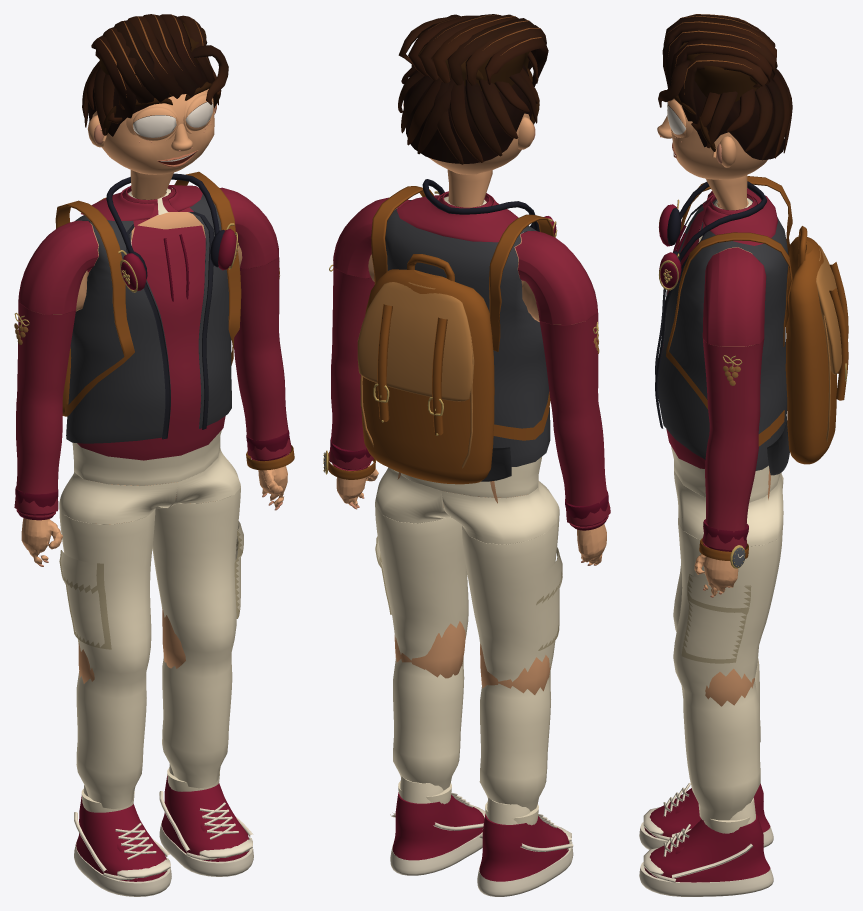
File: axon-sippy-mobile.glb
3 renders of one model, left to right at view 1: azimuth 30°, elevation 25°; view 2: azimuth 150°, elevation 25°; view 3: azimuth 270°, elevation 25°, orthographic.
Visible parts, largest first — view 1: clothes / trousers, clothes / hoodie, clothes / quilt, skin / hair, skin / skin, clothes / shoe, clothes / sole, clothes / leather, clothes / binding, clothes / cuff, clothes / pad, clothes / cargoSeam (+2 smaller); view 2: clothes / trousers, clothes / hoodie, clothes / leather, skin / hair (×2), clothes / quilt, clothes / saddleEdge, clothes / shoe, skin / skin, clothes / sole, clothes / shirt, clothes / cuff, clothes / pad; view 3: clothes / trousers, clothes / hoodie, skin / hair (×2), clothes / quilt, clothes / leather, clothes / shoe, skin / skin, clothes / sole, clothes / saddleEdge, clothes / pad, clothes / cargoSeam, clothes / cuff (+3 smaller).
Boxes of the visible parts, x1,y1,x2,y2 form: clothes / trousers: [59, 430, 243, 812]; clothes / hoodie: [14, 185, 291, 517]; clothes / quilt: [66, 192, 231, 443]; skin / hair: [82, 14, 228, 136]; skin / skin: [21, 89, 287, 683]; clothes / shoe: [76, 229, 249, 881]; clothes / sole: [74, 791, 253, 896]; clothes / leather: [55, 171, 294, 470]; clothes / binding: [126, 211, 214, 439]; clothes / cuff: [15, 234, 289, 520]; clothes / pad: [106, 173, 224, 278]; clothes / cargoSeam: [59, 530, 243, 649]; clothes / trousers: [375, 456, 562, 825]; clothes / hoodie: [329, 191, 610, 528]; clothes / leather: [328, 186, 554, 484]; skin / hair (×2): [398, 14, 548, 164]; clothes / quilt: [385, 200, 550, 481]; clothes / saddleEdge: [357, 282, 599, 468]; clothes / shoe: [392, 197, 569, 881]; skin / skin: [336, 102, 606, 694]; clothes / sole: [390, 792, 573, 896]; clothes / shirt: [323, 196, 530, 824]; clothes / cuff: [330, 224, 608, 530]; clothes / pad: [422, 179, 539, 231]; clothes / trousers: [671, 446, 783, 833]; clothes / hoodie: [662, 188, 777, 550]; skin / hair (×2): [658, 14, 792, 160]; clothes / quilt: [658, 198, 789, 475]; clothes / leather: [666, 176, 848, 560]; clothes / shoe: [644, 204, 770, 882]; skin / skin: [657, 98, 771, 706]; clothes / sole: [639, 783, 773, 896]; clothes / saddleEdge: [723, 245, 841, 441]; clothes / pad: [667, 181, 767, 263]; clothes / cargoSeam: [681, 574, 751, 663]; clothes / cuff: [660, 225, 748, 551].
Bounding box in the file's own units: 0.6124 × 1.78 × 0.405.
